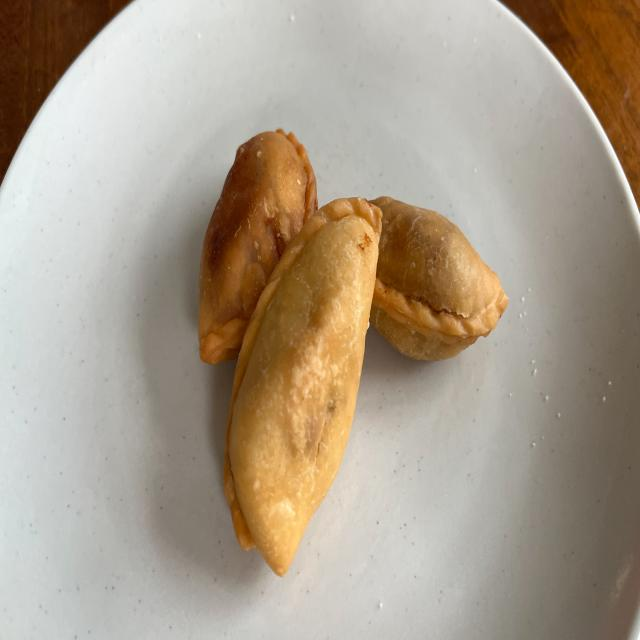karipap: (224, 198, 382, 576), (199, 131, 318, 362), (370, 196, 508, 360)
